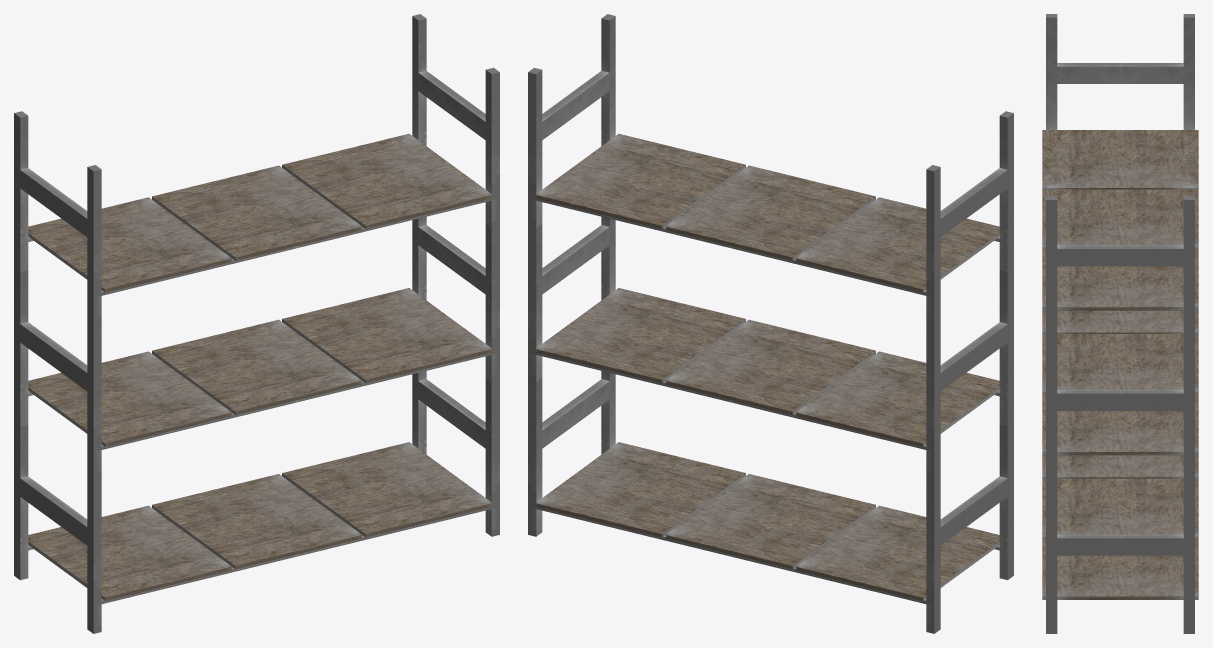
The model's file is PlaceForPoddon.fbx.
The picture shows the model from 3 angles, left to right: view 1: azimuth 30°, elevation 25°; view 2: azimuth 150°, elevation 25°; view 3: azimuth 270°, elevation 25°; orthographic projection. The views are drawn at different scales.
Visible parts, largest first — view 1: Cube, Cube.003; view 2: Cube, Cube.003; view 3: Cube, Cube.003.
Part boxes in pixels (<box>): Cube: <box>28,134,492,600</box>; Cube.003: <box>14,14,499,633</box>; Cube: <box>535,134,999,600</box>; Cube.003: <box>528,14,1013,633</box>; Cube: <box>1042,130,1198,599</box>; Cube.003: <box>1046,14,1194,633</box>.
Bounding box in the file's own units: 817 × 889 × 291.
Materials: 2 (2 with a texture image).
